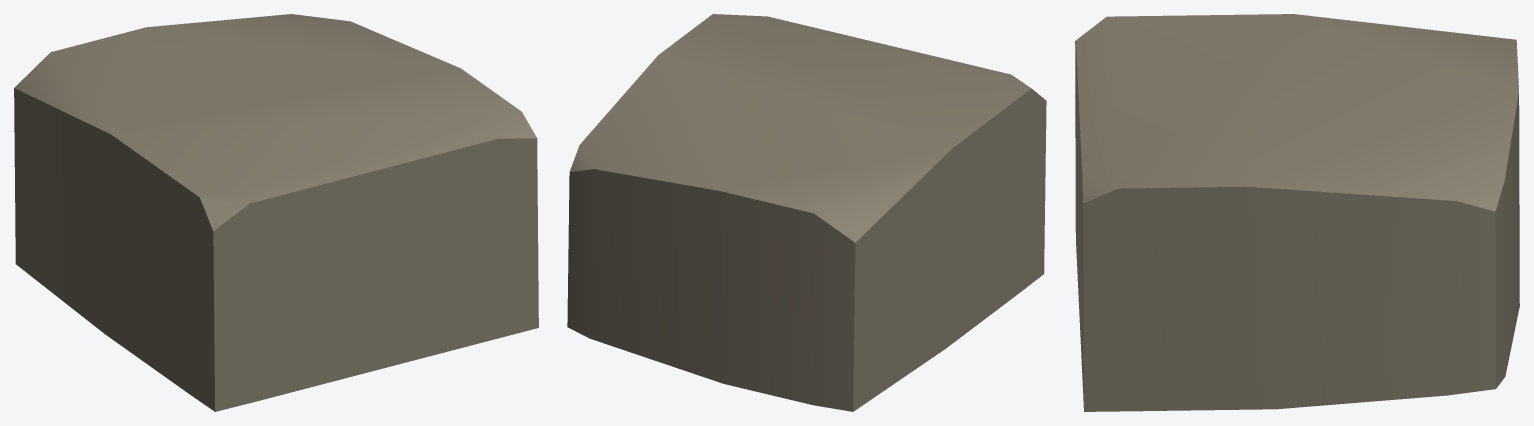
The model's file is Dalle02.fbx.
The picture shows the model from 3 angles, left to right: view 1: azimuth 30°, elevation 25°; view 2: azimuth 150°, elevation 25°; view 3: azimuth 270°, elevation 25°; orthographic projection. The views are drawn at different scales.
Visible parts, largest first — view 1: Dalle02; view 2: Dalle02; view 3: Dalle02.
Part boxes in pixels (x1,y1,x2,y2): Dalle02: (14, 14, 538, 411); Dalle02: (567, 14, 1046, 411); Dalle02: (1075, 14, 1519, 411).
Size of the model in its own units: 45.57 by 27.19 by 48.63.
